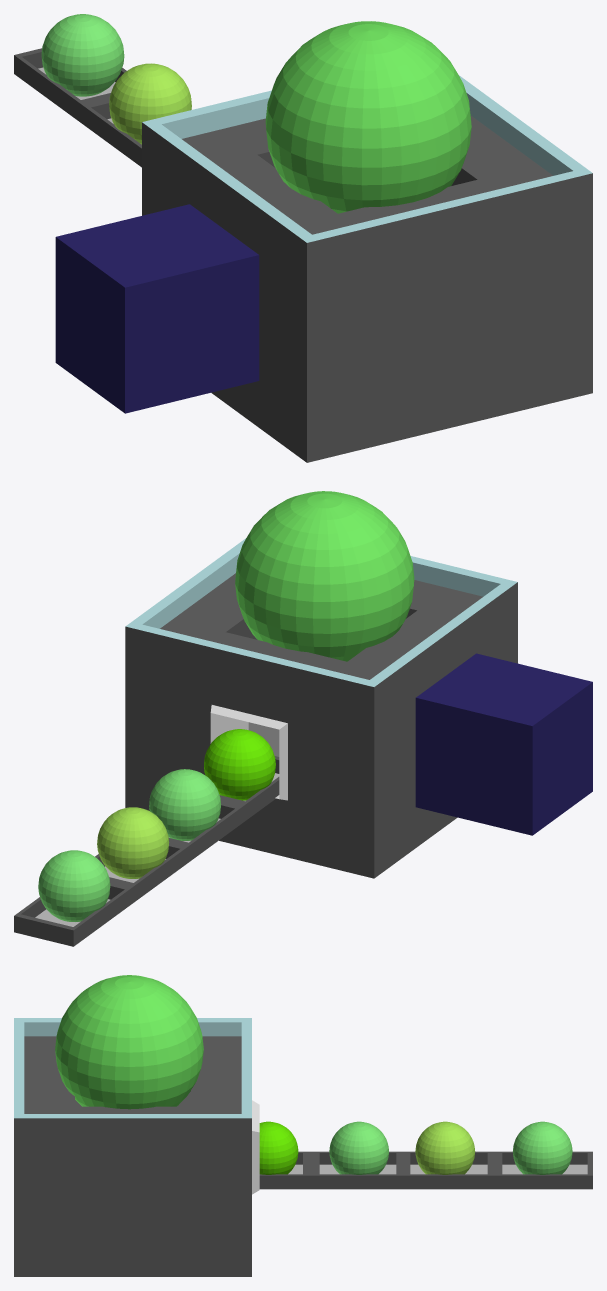
Rendered from Tank(2).fbx.
3 renders of one model, top to bottom at view 1: azimuth 30°, elevation 25°; view 2: azimuth 150°, elevation 25°; view 3: azimuth 270°, elevation 25°, orthographic. The views are drawn at different scales.
Parts seen in each view (by area): view 1: Sphere.003, Sphere.001, Sphere, Cube; view 2: Sphere.003, Cube, Sphere.001, Sphere, Sphere.004, Sphere.002; view 3: Sphere.003, Cube, Sphere, Sphere.001, Sphere.002, Sphere.004.
Part boxes in pixels (bbox=[...]): Sphere.003: bbox=[55, 21, 592, 462]; Sphere.001: bbox=[41, 14, 124, 96]; Sphere: bbox=[109, 63, 191, 144]; Cube: bbox=[14, 48, 141, 167]; Sphere.003: bbox=[125, 491, 592, 878]; Cube: bbox=[14, 756, 279, 946]; Sphere.001: bbox=[38, 850, 110, 921]; Sphere: bbox=[97, 807, 169, 878]; Sphere.004: bbox=[204, 729, 275, 800]; Sphere.002: bbox=[149, 769, 220, 840]; Sphere.003: bbox=[14, 975, 259, 1276]; Cube: bbox=[259, 1151, 592, 1189]; Sphere: bbox=[415, 1121, 475, 1174]; Sphere.001: bbox=[512, 1121, 572, 1174]; Sphere.002: bbox=[329, 1121, 388, 1174]; Sphere.004: bbox=[259, 1121, 298, 1174].
Size of the model in its own units: 230 by 178 by 381.
